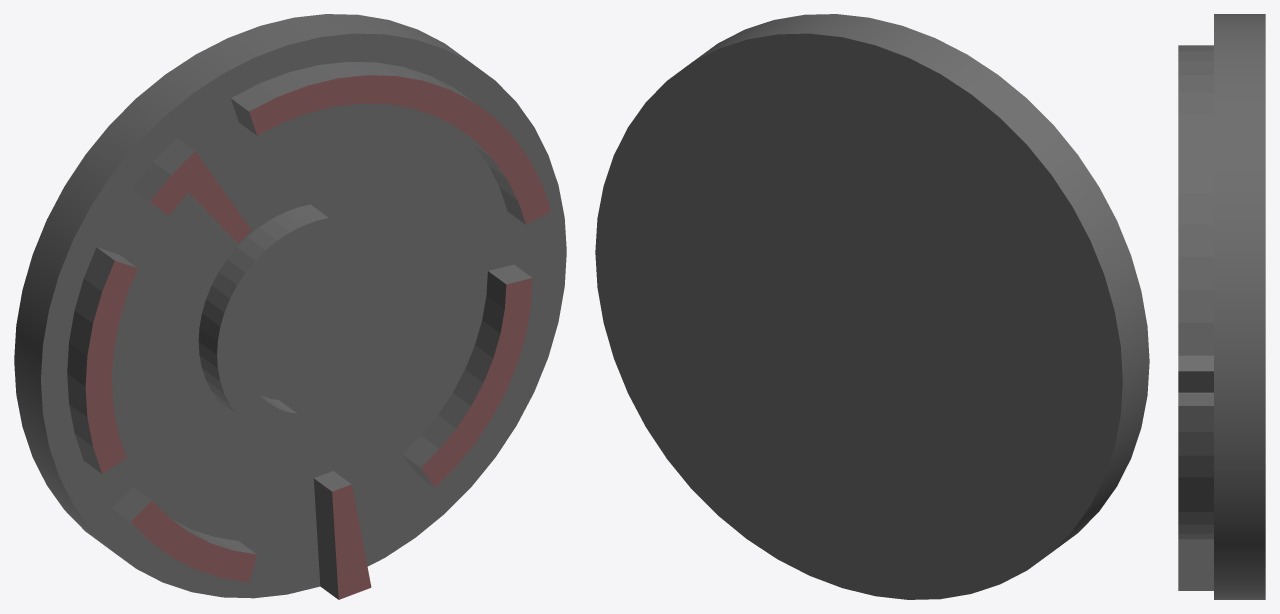
The model's file is SM_Labyrinth_001.fbx.
3 renders of one model, left to right at view 1: azimuth 30°, elevation 25°; view 2: azimuth 150°, elevation 25°; view 3: azimuth 270°, elevation 25°, orthographic. The views are drawn at different scales.
Parts seen in each view (by area): view 1: SM_Labyrinth_001; view 2: SM_Labyrinth_001; view 3: SM_Labyrinth_001.
Boxes of the visible parts, bbox=[...] form: SM_Labyrinth_001: bbox=[14, 14, 566, 599]; SM_Labyrinth_001: bbox=[595, 14, 1149, 599]; SM_Labyrinth_001: bbox=[1178, 14, 1265, 599].
Size of the model in its own units: 129 by 129 by 19.17.
